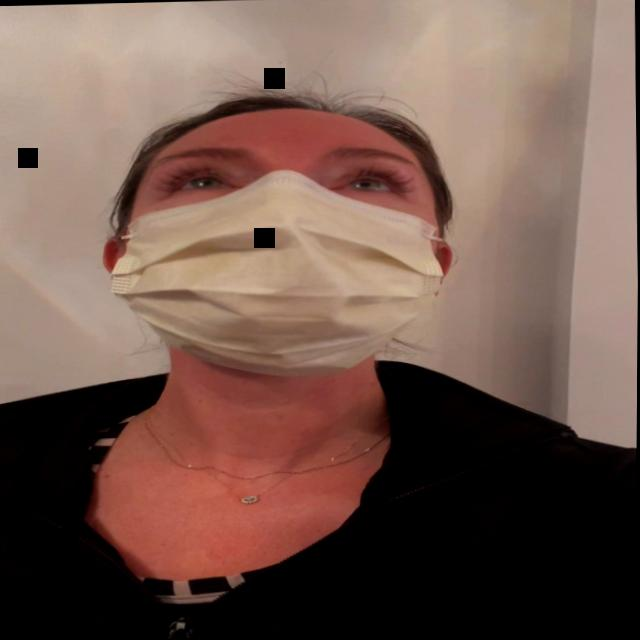Mask: (71, 86, 484, 402)
